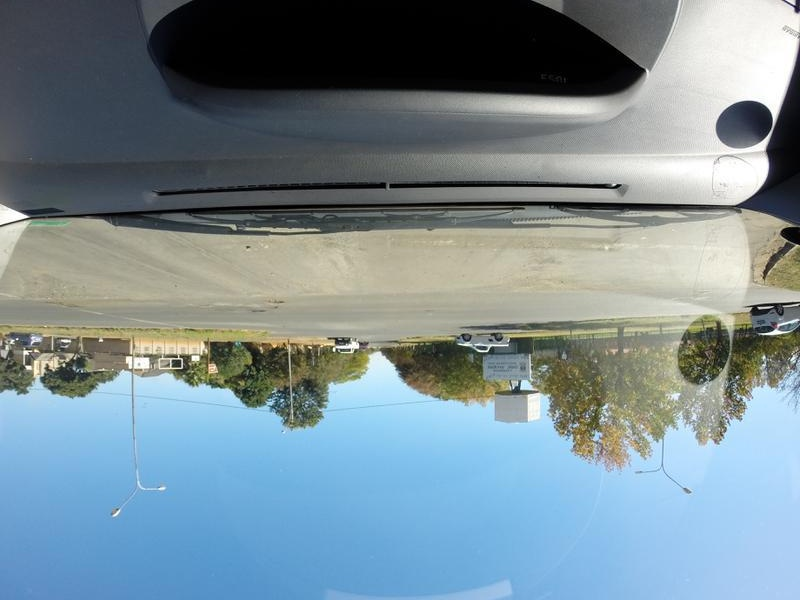pothole: (261, 296, 290, 310), (247, 298, 264, 320)
